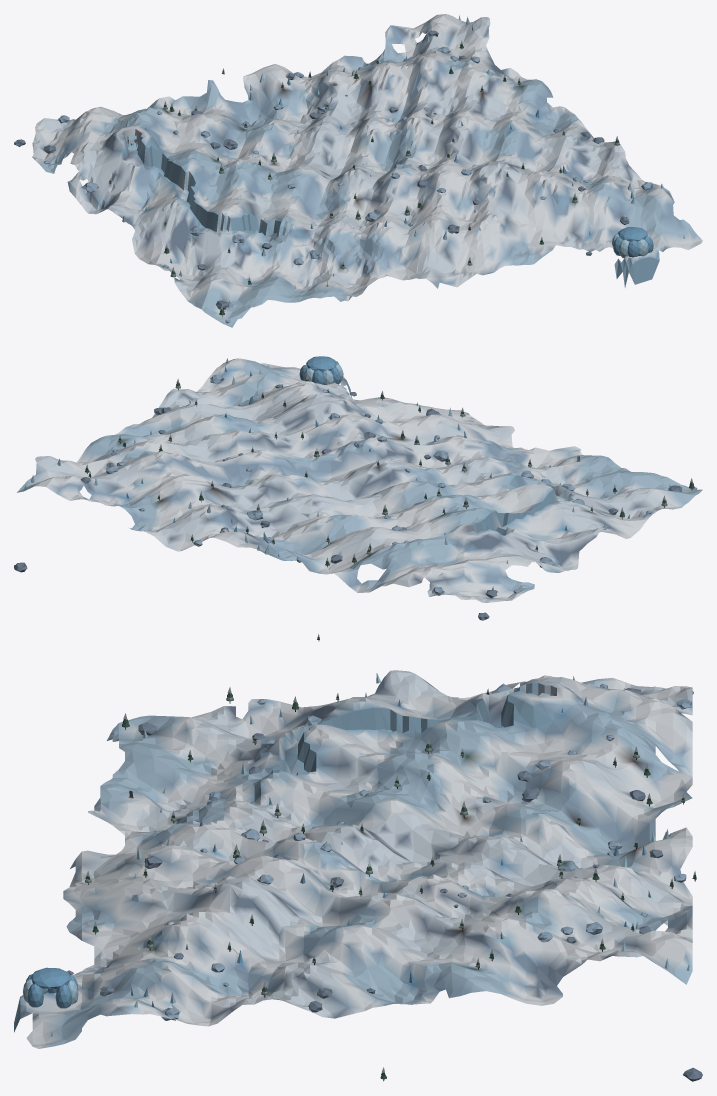
File: frost_isl_aurora_arch_lod1.glb
The picture shows the model from 3 angles, top to bottom: view 1: azimuth 30°, elevation 25°; view 2: azimuth 150°, elevation 25°; view 3: azimuth 270°, elevation 25°; orthographic projection. The views are drawn at different scales.
Parts seen in each view (by area): view 1: geometry_0; view 2: geometry_0; view 3: geometry_0.
Boxes of the visible parts, <box> form: geometry_0: <box>14,14,702,327</box>; geometry_0: <box>14,356,702,641</box>; geometry_0: <box>14,670,702,1081</box>.
Size of the model in its own units: 242 by 47.74 by 223.
